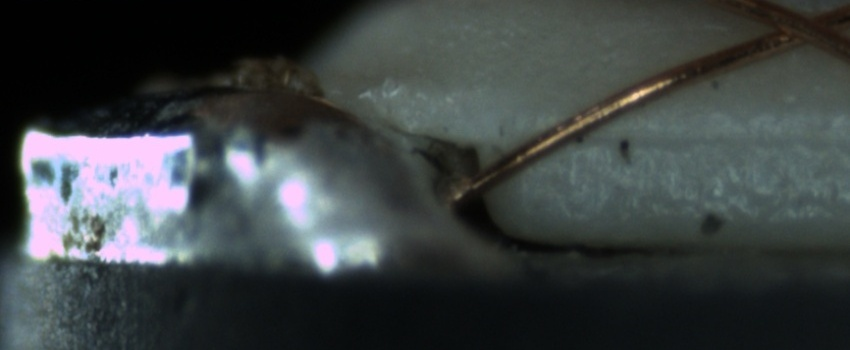CL: (745, 2, 843, 57)
DL: (565, 103, 842, 170)
